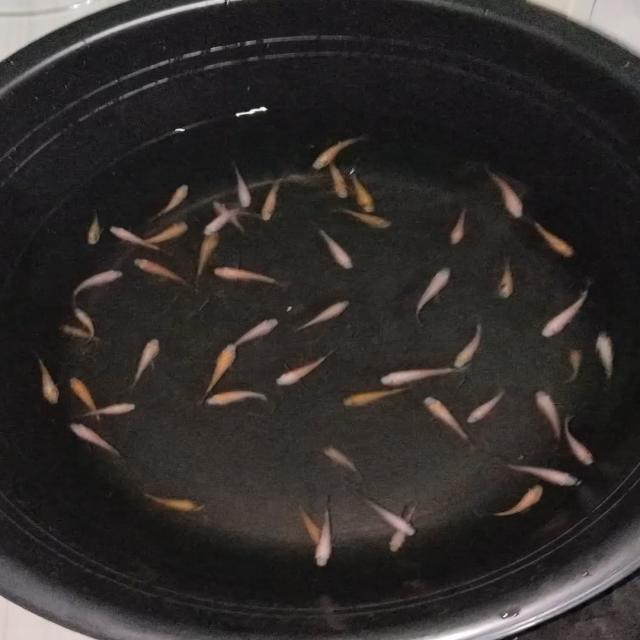nila: (536, 280, 592, 340), (408, 263, 456, 326), (422, 394, 473, 452), (276, 346, 342, 388), (482, 164, 531, 219), (498, 457, 582, 489), (68, 420, 130, 461), (310, 130, 372, 170), (376, 363, 474, 388), (289, 298, 353, 336), (308, 221, 356, 271), (362, 497, 418, 539), (200, 342, 240, 399), (529, 215, 579, 260), (132, 255, 198, 289), (212, 262, 290, 290), (110, 222, 170, 258), (226, 316, 280, 356), (386, 498, 422, 558), (448, 316, 486, 370), (564, 411, 599, 468), (490, 484, 547, 518), (141, 488, 210, 516), (312, 498, 338, 572), (66, 375, 105, 424), (72, 266, 126, 300), (532, 388, 562, 447), (212, 198, 256, 238), (199, 202, 250, 236), (135, 219, 193, 248), (150, 180, 192, 220), (31, 352, 61, 408), (200, 387, 276, 409), (336, 386, 411, 408), (260, 168, 290, 222), (130, 334, 160, 388), (317, 444, 362, 479), (465, 387, 506, 425), (194, 226, 218, 290), (348, 164, 378, 215), (75, 399, 140, 422), (338, 206, 394, 232), (320, 159, 353, 203), (596, 329, 616, 394), (292, 502, 321, 542), (231, 158, 254, 206), (74, 306, 100, 346), (562, 344, 584, 389), (63, 322, 104, 346), (450, 202, 470, 248), (498, 252, 516, 302), (86, 208, 103, 248)
